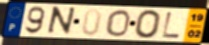0: (80, 8, 104, 37)
9: (23, 6, 47, 35)
L: (161, 11, 182, 40)
N: (45, 6, 78, 37)
O: (133, 9, 163, 40), (105, 9, 132, 38)
